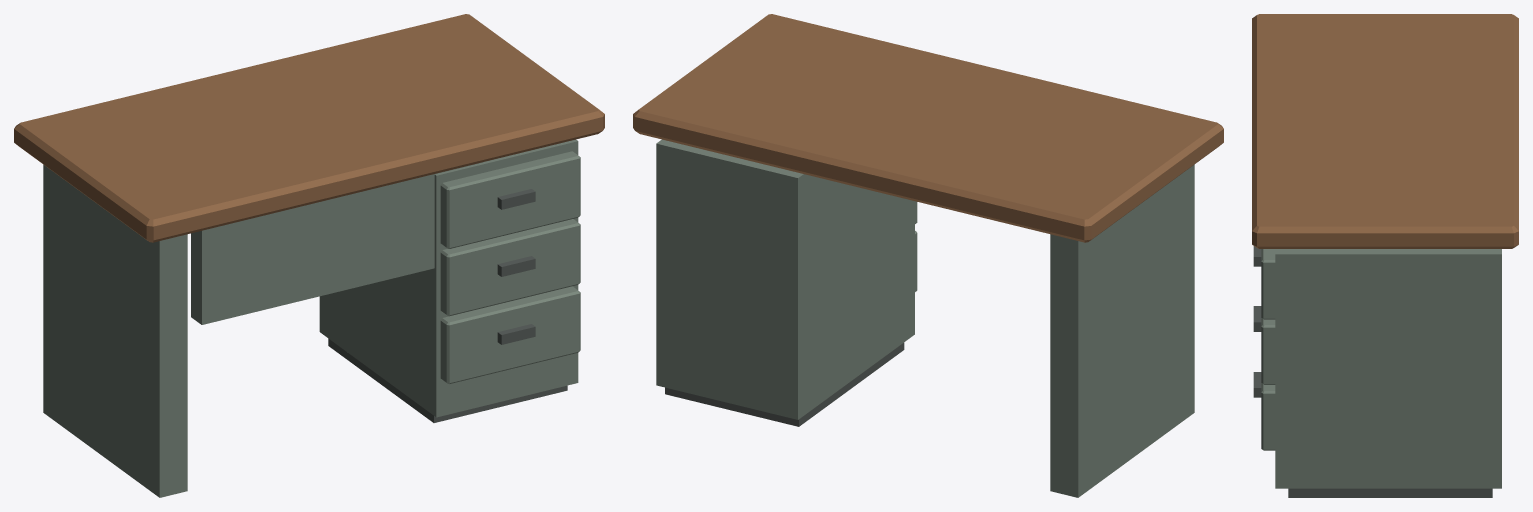
Rendered from WaterworksRegistration_Desk.fbx.
3 renders of one model, left to right at view 1: azimuth 30°, elevation 25°; view 2: azimuth 150°, elevation 25°; view 3: azimuth 270°, elevation 25°, orthographic. The views are drawn at different scales.
Visible parts, largest first — view 1: WaterworksRegistration_Desk; view 2: WaterworksRegistration_Desk; view 3: WaterworksRegistration_Desk.
Part boxes in pixels (x1,y1,x2,y2): WaterworksRegistration_Desk: [14, 14, 604, 497]; WaterworksRegistration_Desk: [633, 14, 1223, 497]; WaterworksRegistration_Desk: [1252, 14, 1518, 497].
Bounding box in the file's own units: 1.25 × 0.75 × 0.65.
